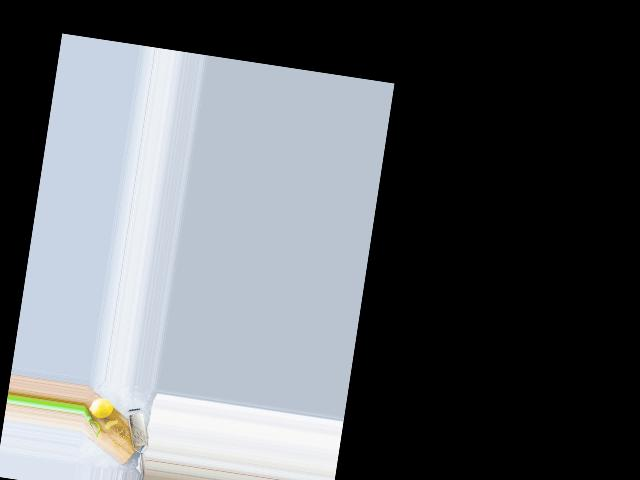lemon: (87, 396, 114, 420)
